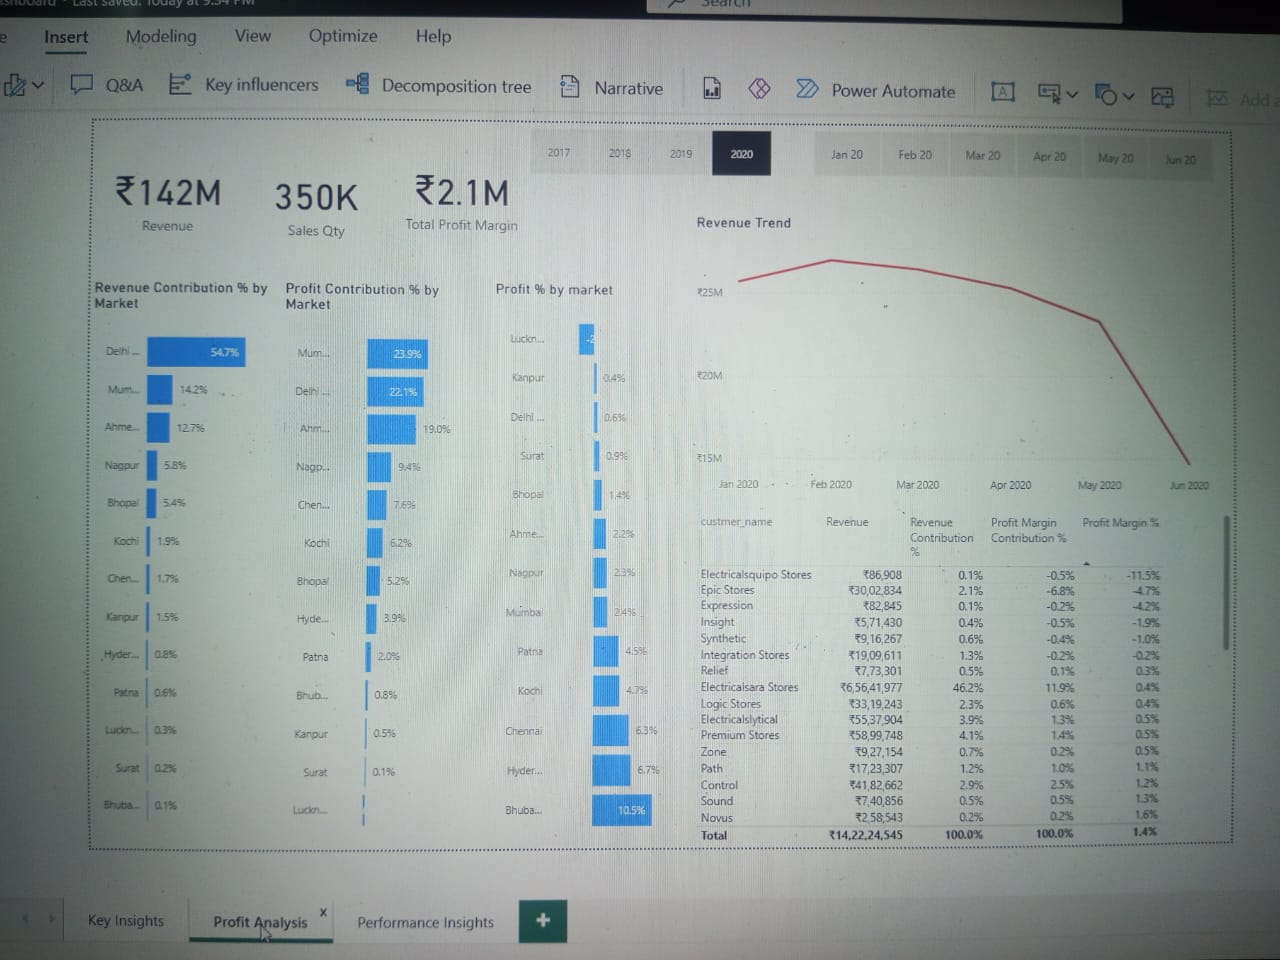

This screenshot's page, from the dashboard's own definition file:
{"tool":"powerbi","page":{"name":"Profit Analysis","canvas":[1350,850],"ordinal":1},"visuals":[{"type":"card","fields":{"Values":["BaseMeasures (2).Revenue"]},"box":[0,0,179.6,184.8],"z":0},{"type":"card","fields":{"Values":["BaseMeasures (2).Sales Qty"]},"box":[179.6,0,164.1,193],"z":1000},{"type":"barChart","title":"Profit % by market","fields":{"Y":["BaseMeasures (2).Profit Margin %"],"Category":["sales markets.markets_name"]},"box":[464.5,184.8,230.2,664.8],"z":2000},{"type":"barChart","title":"Profit Contribution % by Market","fields":{"Y":["BaseMeasures (2).Profit Margin Contribution %"],"Category":["sales markets.markets_name"]},"box":[221.9,185.8,208.5,659.6],"z":3000},{"type":"slicer","fields":{"Values":["sales date.year"]},"box":[483.2,0,335.5,66.5],"z":4000},{"type":"slicer","fields":{"Values":["sales date.cy_date"]},"box":[818.6,0,531.7,66.5],"z":5000},{"type":"tableEx","title":"Top 5 Customers","fields":{"Values":["sales customers.custmer_name","BaseMeasures (2).Revenue","BaseMeasures (2).Revenue Contribution %","BaseMeasures (2).Profit Margin Contribution %","BaseMeasures (2).Profit Margin %"]},"box":[701.9,454.2,648.3,395.4],"z":6000},{"type":"lineChart","title":"Revenue Trend","fields":{"Y":["BaseMeasures (2).Revenue"],"Category":["sales date.cy_date"]},"box":[701.9,104.3,621.4,338.6],"z":7000},{"type":"card","fields":{"Values":["BaseMeasures (2).Total Profit Margin"]},"box":[349.9,0,161,176.5],"z":8000},{"type":"barChart","title":"Revenue Contribution % by Market","fields":{"Y":["BaseMeasures (2).Revenue Contribution %"],"Category":["sales markets.markets_name"]},"box":[0,185.8,219.9,654.5],"z":9000}]}

Visuals, with their boxes on the page's 1350x850 design canvas (x1, y1, x2, y2). These are canvas units, not pixel positions in the 1280x960 screenshot, which may show the page scaled, cropped or inside an application window:
card - BaseMeasures (2).Revenue: bbox(0, 0, 180, 185)
card - BaseMeasures (2).Sales Qty: bbox(180, 0, 344, 193)
"Profit % by market" barChart: bbox(464, 185, 695, 850)
"Profit Contribution % by Market" barChart: bbox(222, 186, 430, 845)
slicer - sales date.year: bbox(483, 0, 819, 66)
slicer - sales date.cy_date: bbox(819, 0, 1350, 66)
"Top 5 Customers" tableEx: bbox(702, 454, 1350, 850)
"Revenue Trend" lineChart: bbox(702, 104, 1323, 443)
card - BaseMeasures (2).Total Profit Margin: bbox(350, 0, 511, 176)
"Revenue Contribution % by Market" barChart: bbox(0, 186, 220, 840)
